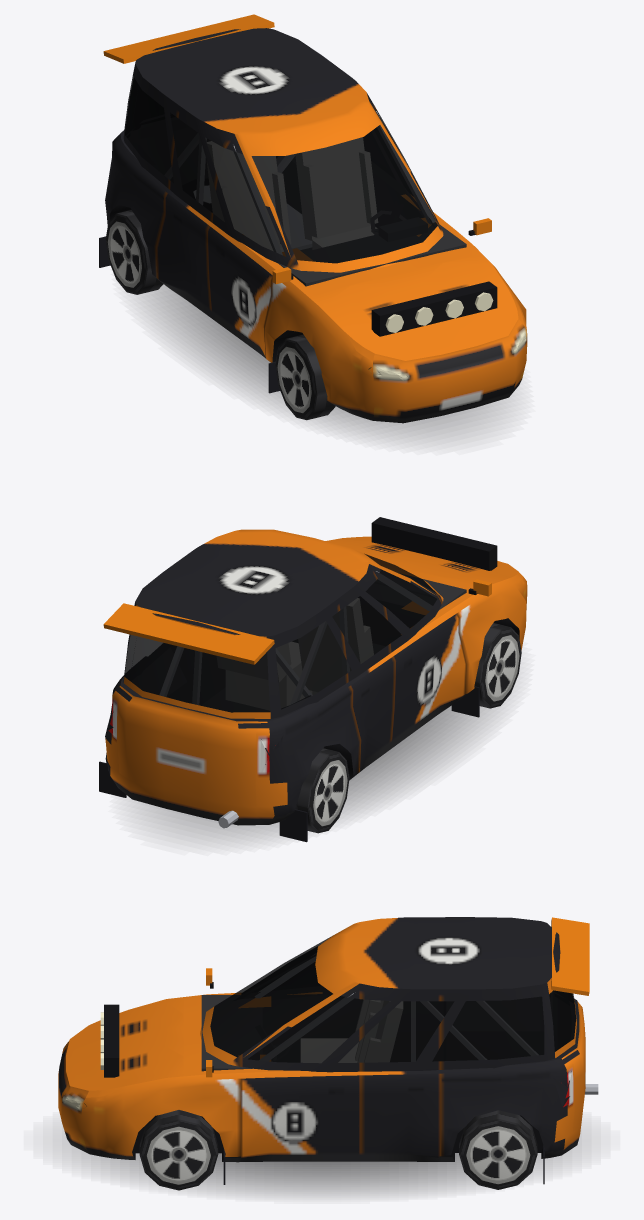
Rendered from tocha.glb.
The picture shows the model from 3 angles, top to bottom: view 1: azimuth 30°, elevation 25°; view 2: azimuth 150°, elevation 25°; view 3: azimuth 270°, elevation 25°; orthographic projection. The views are drawn at different scales.
Visible parts, largest first — view 1: Carroceria, Interior, Capo_malha, Porta_D_malha, Sombra, Porta_TD_malha, Roda_DD, Tampa_malha, Roda_TD; view 2: Carroceria, Tampa_malha, Interior, Porta_D_malha, Sombra, Porta_TD_malha, Capo_malha, Roda_TD, Roda_DD; view 3: Carroceria, Interior, Porta_E_malha, Porta_TE_malha, Sombra, Capo_malha, Tampa_malha, Roda_DE, Roda_TE, Porta_D_malha.
Boxes of the visible parts, box(x1,y1,x2,y2) form: Carroceria: box(99, 28, 527, 423); Interior: box(129, 111, 466, 286); Capo_malha: box(314, 256, 523, 360); Porta_D_malha: box(207, 133, 291, 356); Sombra: box(140, 285, 506, 440); Porta_TD_malha: box(156, 105, 232, 309); Roda_DD: box(275, 334, 335, 420); Tampa_malha: box(103, 14, 274, 137); Roda_TD: box(105, 210, 163, 294); Carroceria: box(99, 529, 527, 842); Tampa_malha: box(103, 603, 274, 806); Interior: box(130, 570, 466, 711); Porta_D_malha: box(369, 562, 466, 740); Sombra: box(137, 706, 499, 841); Porta_TD_malha: box(337, 565, 394, 771); Capo_malha: box(329, 517, 523, 586); Roda_TD: box(295, 748, 349, 833); Roda_DD: box(474, 623, 521, 708); Carroceria: box(58, 917, 598, 1184); Interior: box(201, 953, 570, 1071); Porta_E_malha: box(241, 982, 361, 1157); Porta_TE_malha: box(361, 984, 441, 1157); Sombra: box(62, 1128, 581, 1195); Capo_malha: box(71, 999, 183, 1097); Tampa_malha: box(547, 917, 589, 1132); Roda_DE: box(139, 1110, 218, 1190); Roda_TE: box(459, 1110, 537, 1189); Porta_D_malha: box(242, 947, 320, 994).
Size of the model in its own units: 2.44 by 1.68 by 4.86.
Materials: 14 (5 with a texture image).
